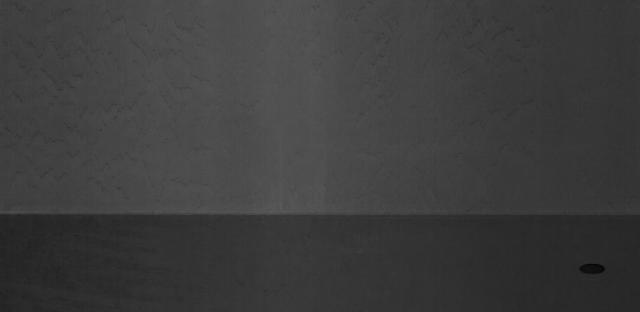punching_hole: (574, 262, 610, 278)
welding_line: (2, 201, 640, 230)
